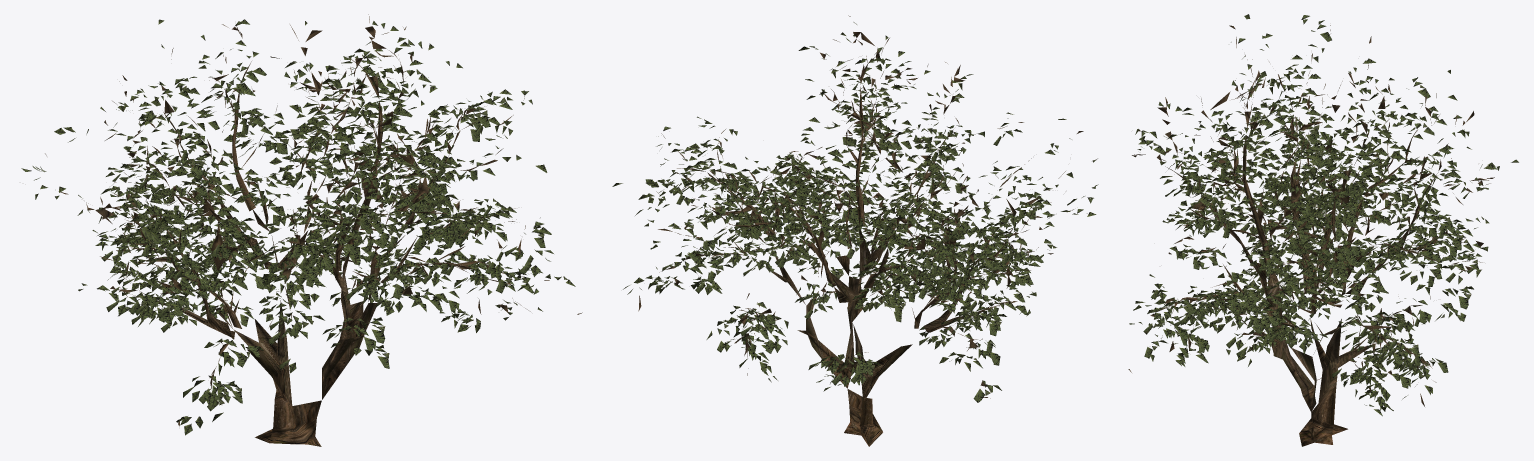
Rendered from jacaranda.glb.
3 renders of one model, left to right at view 1: azimuth 30°, elevation 25°; view 2: azimuth 150°, elevation 25°; view 3: azimuth 270°, elevation 25°, orthographic. The views are drawn at different scales.
Parts seen in each view (by area): view 1: jacaranda_tree_LOD0; view 2: jacaranda_tree_LOD0; view 3: jacaranda_tree_LOD0.
Part boxes in pixels (left/top/right/bottom): jacaranda_tree_LOD0: left=21, top=14, right=582, bottom=446; jacaranda_tree_LOD0: left=612, top=15, right=1098, bottom=446; jacaranda_tree_LOD0: left=1128, top=14, right=1518, bottom=446.
Size of the model in its own units: 23.21 by 19.1 by 17.33.
3 materials, 3 textured.
